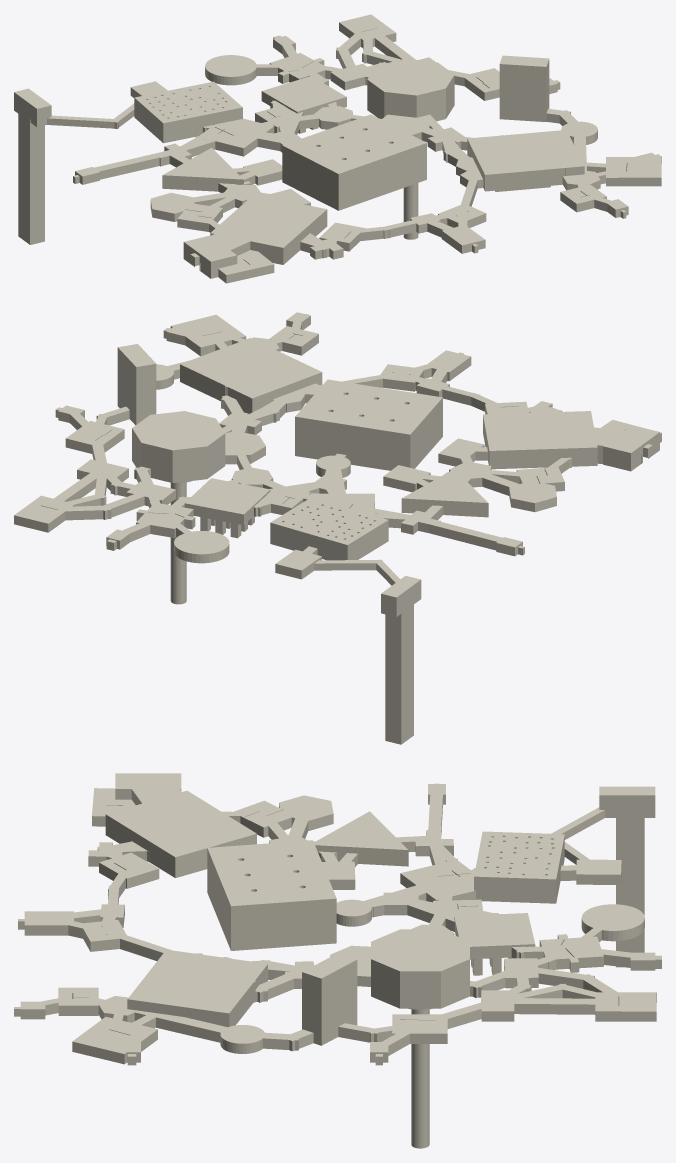
Rendered from lobby.glb.
3 renders of one model, top to bottom at view 1: azimuth 30°, elevation 25°; view 2: azimuth 150°, elevation 25°; view 3: azimuth 270°, elevation 25°, orthographic. The views are drawn at different scales.
Visible parts, largest first — view 1: skin; view 2: skin; view 3: skin.
Boxes of the visible parts, left/top/right/bottom form: skin: left=14, top=14, right=661, bottom=283; skin: left=14, top=312, right=661, bottom=744; skin: left=14, top=773, right=661, bottom=1148.
Size of the model in its own units: 157 by 60 by 157.
